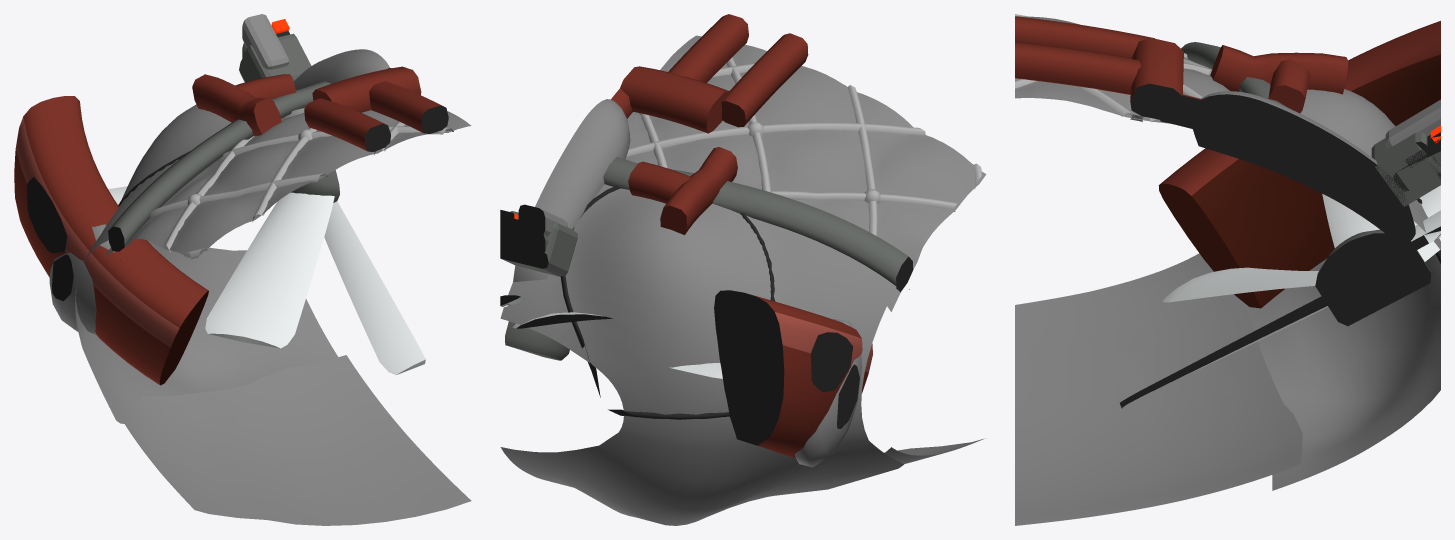
Rendered from zeppelin_41.glb.
The picture shows the model from 3 angles, left to right: view 1: azimuth 30°, elevation 25°; view 2: azimuth 150°, elevation 25°; view 3: azimuth 270°, elevation 25°; orthographic projection. The views are drawn at different scales.
Visible parts, largest first — view 1: envelope.001, duct.001, cowl.001, blade_5.001, blade_6.001, cowl_rim.001, net_ropes.001, duct_boot_l.001, bracket_l.001, gate_leg_out_l.001, gate_leg_in_l.001, gate_bar.001 (+5 smaller); view 2: cowl.001, envelope.001, duct.001, cowl_rim.001, hub_fairing.001, net_ropes.001, gate_bar.001, gate_leg_out_l.001, bracket_l.001, gate_leg_in_l.001, duct_boot_l.001, bridge_foot.001 (+6 smaller); view 3: envelope.001, cowl.001, duct.001, hub_fairing.001, fan_hub.001, gate_leg_in_l.001, gate_bar.001, bracket_l.001, gate_leg_out_l.001, bridge_foot.001, blade_5.001, blade_6.001 (+9 smaller).
Boxes of the visible parts, <box> form: envelope.001: <box>104,110,471,525</box>; duct.001: <box>14,96,208,385</box>; cowl.001: <box>75,104,337,423</box>; blade_5.001: <box>205,192,334,348</box>; blade_6.001: <box>324,201,425,374</box>; cowl_rim.001: <box>108,81,330,251</box>; net_ropes.001: <box>149,107,453,259</box>; duct_boot_l.001: <box>49,224,114,334</box>; bracket_l.001: <box>192,74,281,135</box>; gate_leg_out_l.001: <box>304,98,390,151</box>; gate_leg_in_l.001: <box>369,81,448,134</box>; gate_bar.001: <box>312,66,421,112</box>; cowl.001: <box>500,184,903,525</box>; envelope.001: <box>625,35,986,463</box>; duct.001: <box>714,290,872,458</box>; cowl_rim.001: <box>603,156,913,292</box>; hub_fairing.001: <box>513,99,630,281</box>; net_ropes.001: <box>626,57,982,235</box>; gate_bar.001: <box>620,66,729,133</box>; gate_leg_out_l.001: <box>721,33,808,127</box>; bracket_l.001: <box>660,147,737,235</box>; gate_leg_in_l.001: <box>668,14,748,82</box>; duct_boot_l.001: <box>795,319,862,467</box>; bridge_foot.001: <box>500,211,577,276</box>; envelope.001: <box>1015,16,1302,525</box>; cowl.001: <box>1232,89,1440,490</box>; duct.001: <box>1158,21,1440,308</box>; hub_fairing.001: <box>1191,91,1415,248</box>; fan_hub.001: <box>1315,229,1431,326</box>; gate_leg_in_l.001: <box>1015,42,1140,94</box>; gate_bar.001: <box>1130,38,1183,120</box>; bracket_l.001: <box>1210,45,1348,94</box>; gate_leg_out_l.001: <box>1015,16,1154,58</box>; bridge_foot.001: <box>1371,132,1440,207</box>; blade_5.001: <box>1163,267,1318,302</box>; blade_6.001: <box>1120,293,1334,408</box>.
Size of the model in its own units: 24 by 33.56 by 28.
